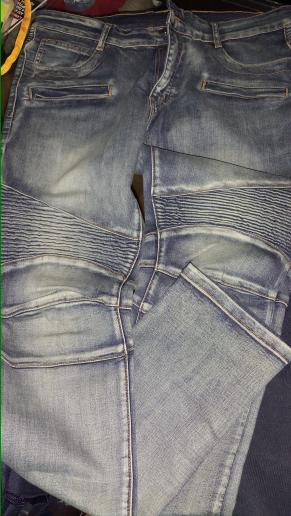jeans: (17, 8, 291, 469)
